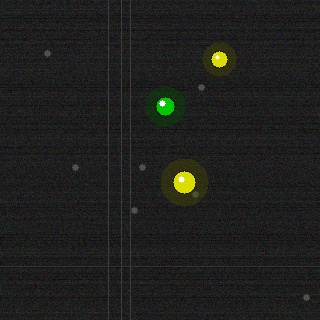green_normal: (154, 95, 176, 117)
yellow_warning: (171, 169, 197, 195), (209, 49, 229, 69)
